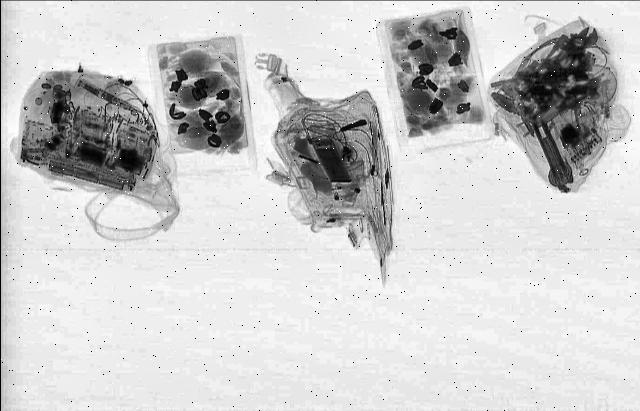Wrench: (548, 24, 604, 76)
